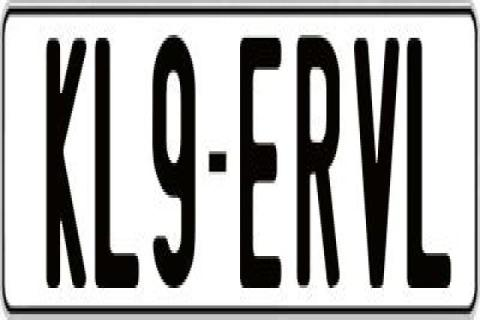0: (150, 26, 196, 282)
E: (238, 32, 284, 285)
K: (43, 32, 86, 291)
L: (406, 38, 454, 291), (95, 35, 141, 288)
R: (294, 27, 342, 297)
V: (350, 32, 398, 294)
